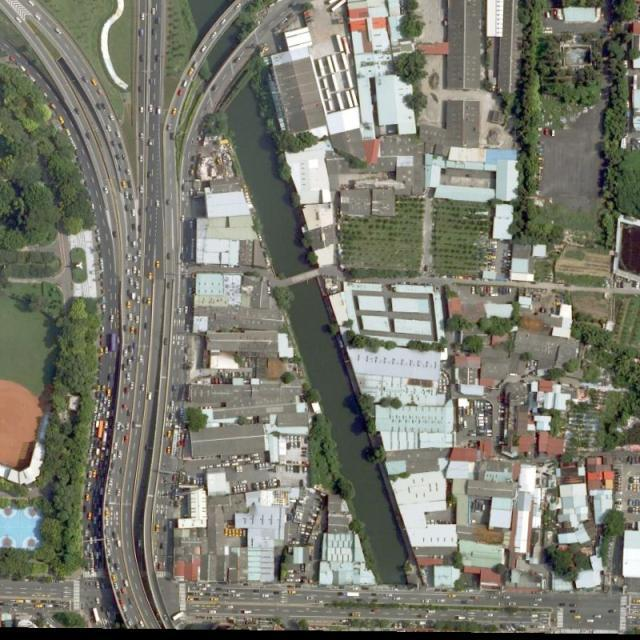vehicle: (173, 610, 185, 621), (94, 607, 101, 622), (98, 421, 104, 438), (102, 432, 107, 450), (112, 332, 116, 350), (235, 2, 242, 10), (220, 18, 227, 26), (58, 116, 65, 124), (346, 593, 359, 597), (211, 84, 218, 91), (34, 14, 41, 21), (235, 57, 242, 64), (114, 563, 120, 571), (310, 512, 318, 518), (103, 186, 109, 194), (91, 78, 97, 86), (193, 61, 199, 69), (30, 74, 36, 82), (106, 548, 111, 557), (139, 620, 145, 627), (83, 76, 89, 83), (106, 124, 112, 131), (211, 32, 217, 39), (201, 45, 207, 52), (72, 143, 78, 150), (51, 103, 57, 110), (298, 523, 306, 528), (112, 574, 117, 582), (124, 579, 129, 587), (114, 582, 119, 590), (172, 108, 177, 116), (116, 130, 121, 138), (269, 483, 278, 487), (182, 214, 186, 223), (158, 105, 162, 114), (56, 28, 62, 34), (16, 17, 22, 23), (188, 69, 194, 75), (20, 66, 26, 72), (122, 605, 127, 612), (129, 598, 134, 605), (506, 624, 511, 631), (155, 260, 160, 267), (113, 231, 118, 238), (183, 80, 188, 87), (28, 1, 35, 6), (140, 55, 145, 62), (97, 103, 102, 110), (119, 142, 124, 149), (122, 181, 127, 188), (127, 181, 132, 188), (87, 132, 92, 139), (69, 136, 74, 143), (66, 129, 71, 136), (95, 392, 100, 399), (508, 602, 516, 606), (262, 594, 270, 598), (209, 610, 217, 614), (477, 423, 485, 427), (167, 446, 171, 454), (98, 507, 102, 515), (95, 458, 99, 466), (93, 470, 97, 478), (110, 470, 114, 478), (109, 478, 113, 486), (106, 538, 110, 546), (422, 599, 430, 603), (233, 594, 241, 598), (169, 521, 173, 529), (290, 434, 294, 442), (243, 610, 251, 614), (117, 489, 121, 497), (118, 450, 122, 458), (168, 123, 172, 131), (149, 138, 153, 146), (148, 170, 152, 178), (138, 250, 142, 258), (105, 421, 109, 429), (125, 434, 129, 442), (117, 422, 121, 430), (114, 442, 118, 450), (130, 382, 134, 390), (546, 10, 550, 18), (442, 378, 446, 386), (594, 614, 602, 618), (139, 86, 143, 94), (102, 102, 106, 110), (100, 392, 104, 400), (121, 589, 126, 595), (117, 592, 122, 598), (119, 599, 124, 605), (170, 133, 175, 139), (178, 90, 183, 96), (126, 169, 131, 175), (116, 154, 121, 160), (543, 27, 553, 30), (225, 528, 229, 535), (289, 590, 296, 594), (438, 598, 445, 602), (464, 421, 468, 428), (106, 449, 110, 456), (96, 448, 100, 455), (88, 512, 92, 519), (111, 462, 115, 469), (106, 510, 110, 517), (110, 566, 114, 573), (290, 466, 294, 473), (531, 614, 538, 618), (229, 590, 236, 594), (306, 596, 313, 600), (428, 610, 435, 614), (294, 435, 298, 442), (298, 435, 302, 442), (270, 478, 277, 482), (96, 582, 100, 589), (287, 570, 294, 574), (113, 453, 117, 460), (178, 307, 182, 314), (130, 278, 134, 285), (129, 314, 133, 321), (130, 326, 134, 333), (186, 325, 190, 332), (132, 210, 136, 217), (156, 199, 160, 206), (127, 254, 131, 261), (95, 399, 99, 406), (94, 406, 98, 413), (126, 423, 130, 430), (154, 555, 158, 562), (139, 355, 143, 362), (126, 373, 130, 380), (148, 393, 152, 400), (630, 476, 634, 483), (490, 286, 494, 293), (615, 498, 622, 502), (149, 104, 153, 111), (110, 114, 114, 121), (142, 13, 146, 20), (155, 18, 159, 25), (1, 602, 8, 606), (543, 30, 552, 33), (75, 109, 80, 114), (10, 57, 15, 62), (633, 599, 639, 603), (534, 598, 542, 601), (298, 531, 306, 534), (298, 528, 306, 531), (226, 606, 234, 609), (210, 598, 218, 601), (239, 486, 243, 492), (89, 448, 93, 454), (100, 453, 103, 461), (90, 461, 94, 467), (94, 537, 98, 543), (90, 442, 94, 448), (146, 444, 150, 450), (287, 434, 290, 442), (458, 617, 466, 620), (393, 598, 401, 601), (290, 442, 294, 448), (294, 442, 298, 448), (96, 598, 100, 604), (138, 540, 142, 546), (148, 273, 152, 279), (148, 298, 151, 306), (185, 306, 188, 314), (136, 281, 139, 289), (136, 316, 139, 324), (111, 315, 114, 323), (140, 156, 144, 162), (130, 194, 134, 200), (126, 205, 130, 211), (132, 224, 136, 230), (102, 384, 106, 390), (107, 410, 110, 418), (103, 406, 106, 414), (98, 413, 102, 419), (257, 482, 260, 490), (293, 541, 299, 545), (294, 538, 300, 542), (157, 524, 160, 532), (439, 378, 442, 386), (489, 252, 497, 255), (490, 294, 498, 297), (484, 286, 487, 294), (610, 609, 616, 613), (628, 508, 632, 514), (632, 508, 636, 514), (98, 89, 102, 95), (113, 141, 117, 147), (122, 154, 126, 160), (153, 7, 156, 15), (276, 1, 282, 5), (15, 600, 23, 603), (239, 529, 242, 536), (478, 420, 485, 423), (476, 417, 483, 420), (477, 414, 484, 417), (234, 486, 237, 493), (243, 485, 246, 492), (239, 480, 246, 483), (100, 488, 103, 495), (89, 471, 92, 478), (86, 494, 89, 501), (87, 544, 90, 551), (287, 466, 290, 473), (304, 466, 307, 473), (108, 487, 111, 494), (106, 519, 109, 526), (118, 540, 121, 547), (274, 591, 281, 594), (486, 614, 493, 617), (209, 588, 216, 591), (462, 601, 469, 604), (386, 594, 393, 597), (310, 536, 317, 539), (286, 579, 293, 582), (302, 564, 305, 571), (316, 600, 323, 603), (554, 302, 561, 305), (489, 255, 496, 258), (134, 266, 137, 273), (137, 269, 140, 276), (137, 296, 140, 303), (140, 186, 143, 193), (126, 192, 129, 199), (134, 241, 137, 248), (128, 290, 131, 297), (100, 402, 103, 409), (126, 388, 129, 395), (199, 466, 206, 469), (124, 350, 127, 357), (123, 363, 126, 370), (142, 384, 145, 391), (159, 563, 162, 570), (223, 463, 230, 466), (263, 482, 266, 489), (615, 475, 622, 478), (615, 478, 622, 481), (626, 616, 633, 619), (490, 245, 497, 248), (471, 407, 474, 414), (467, 408, 470, 415), (509, 287, 512, 294), (571, 610, 578, 613), (615, 508, 622, 511), (615, 502, 622, 505), (615, 492, 622, 495), (140, 30, 143, 37), (156, 55, 159, 62), (46, 605, 53, 608), (42, 600, 49, 603), (629, 485, 633, 490), (205, 583, 210, 587), (309, 519, 314, 523), (574, 616, 580, 619), (233, 529, 236, 535), (449, 594, 455, 597), (545, 129, 548, 135), (237, 486, 240, 492), (236, 466, 239, 472), (88, 482, 91, 488), (94, 517, 97, 523), (90, 537, 93, 543), (91, 554, 94, 560), (134, 422, 137, 428), (421, 615, 427, 618), (197, 583, 203, 586), (198, 593, 204, 596), (206, 593, 212, 596), (298, 442, 301, 448), (294, 579, 300, 582), (168, 282, 171, 288), (133, 293, 136, 299), (128, 302, 131, 308), (165, 338, 168, 344), (167, 199, 170, 205), (140, 133, 143, 139), (134, 256, 137, 262), (139, 238, 142, 244), (134, 343, 137, 349), (129, 346, 132, 352), (108, 400, 111, 406), (98, 385, 101, 391), (94, 414, 97, 420), (128, 410, 131, 416), (123, 404, 126, 410), (122, 425, 125, 431), (129, 360, 132, 366), (171, 401, 174, 407), (207, 465, 213, 468), (231, 455, 237, 458), (254, 590, 260, 593), (339, 593, 345, 596), (171, 413, 174, 419), (636, 500, 639, 506), (636, 508, 639, 514), (141, 106, 144, 112), (33, 600, 39, 603), (586, 620, 594, 622), (473, 286, 475, 294), (199, 588, 207, 590), (189, 593, 197, 595), (214, 594, 222, 596), (490, 596, 498, 598), (503, 596, 511, 598), (614, 472, 622, 474), (489, 250, 497, 252), (634, 485, 637, 490), (92, 430, 95, 435), (95, 553, 98, 558), (93, 422, 96, 427), (167, 254, 170, 259), (152, 29, 155, 34), (119, 166, 122, 171), (229, 529, 231, 536), (552, 129, 554, 136), (169, 430, 171, 437), (86, 530, 88, 537), (92, 568, 94, 575), (287, 575, 294, 577), (108, 389, 110, 396), (106, 346, 108, 353), (615, 469, 622, 471), (615, 482, 622, 484), (490, 242, 497, 244), (488, 287, 490, 294), (35, 605, 42, 607), (25, 600, 32, 602), (637, 477, 639, 483), (240, 466, 242, 472), (106, 529, 108, 535), (472, 597, 478, 599), (127, 270, 130, 274), (146, 322, 148, 328), (105, 398, 107, 404), (101, 348, 103, 354), (215, 465, 221, 467), (223, 461, 229, 463), (440, 386, 442, 392), (444, 386, 446, 392), (570, 604, 576, 606), (630, 499, 632, 505), (633, 500, 635, 506), (615, 505, 621, 507), (236, 529, 238, 534), (634, 478, 636, 483), (638, 485, 640, 490), (125, 326, 127, 331), (615, 486, 621, 487), (615, 489, 621, 490)
